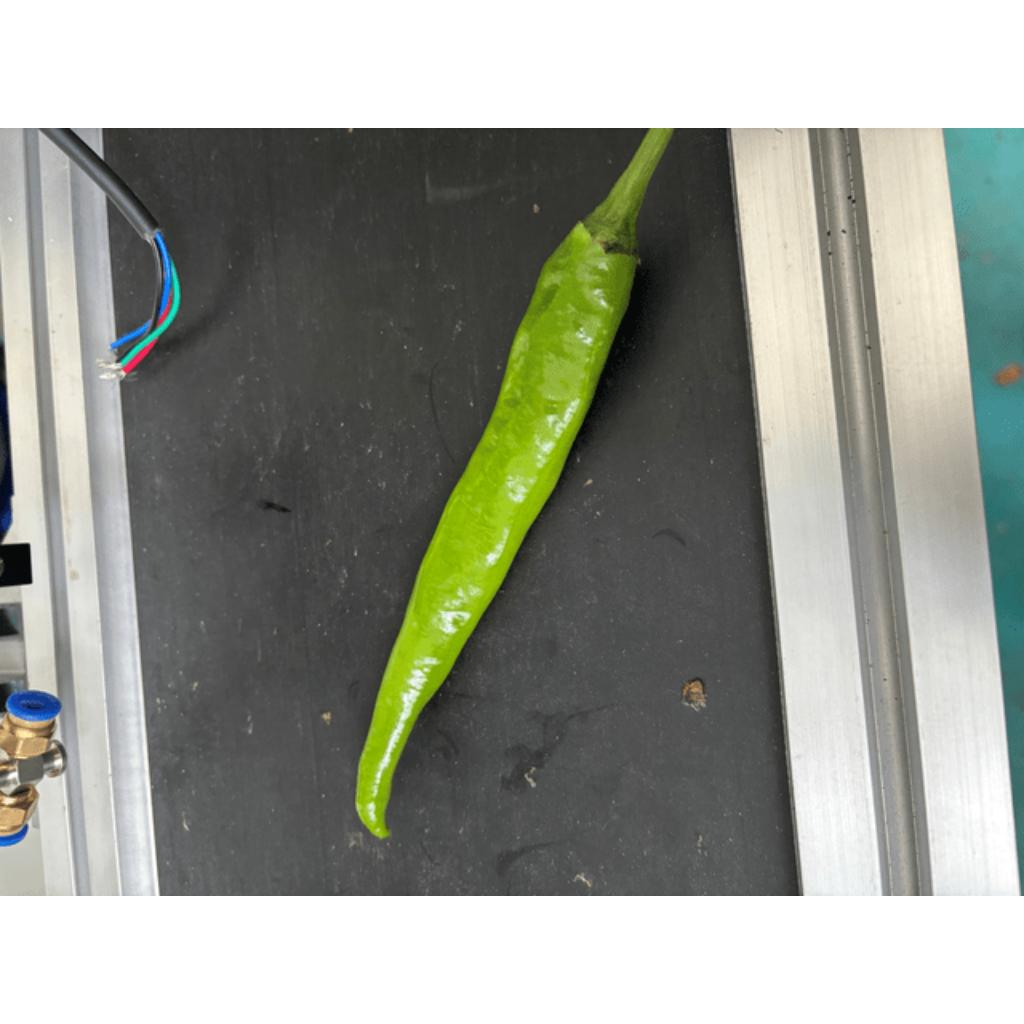chili: (352, 203, 644, 843)
